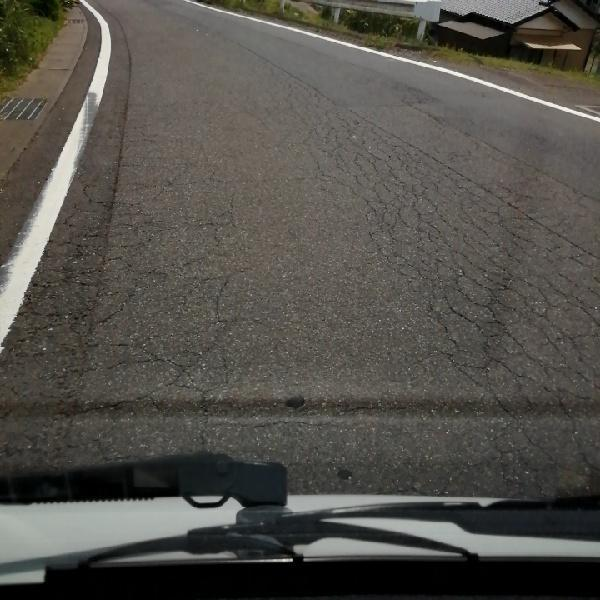D10: (246, 392, 430, 438)
D20: (147, 88, 570, 503), (289, 79, 591, 468), (18, 122, 263, 441)
